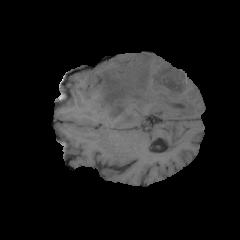glioma: (97, 52, 197, 128)
